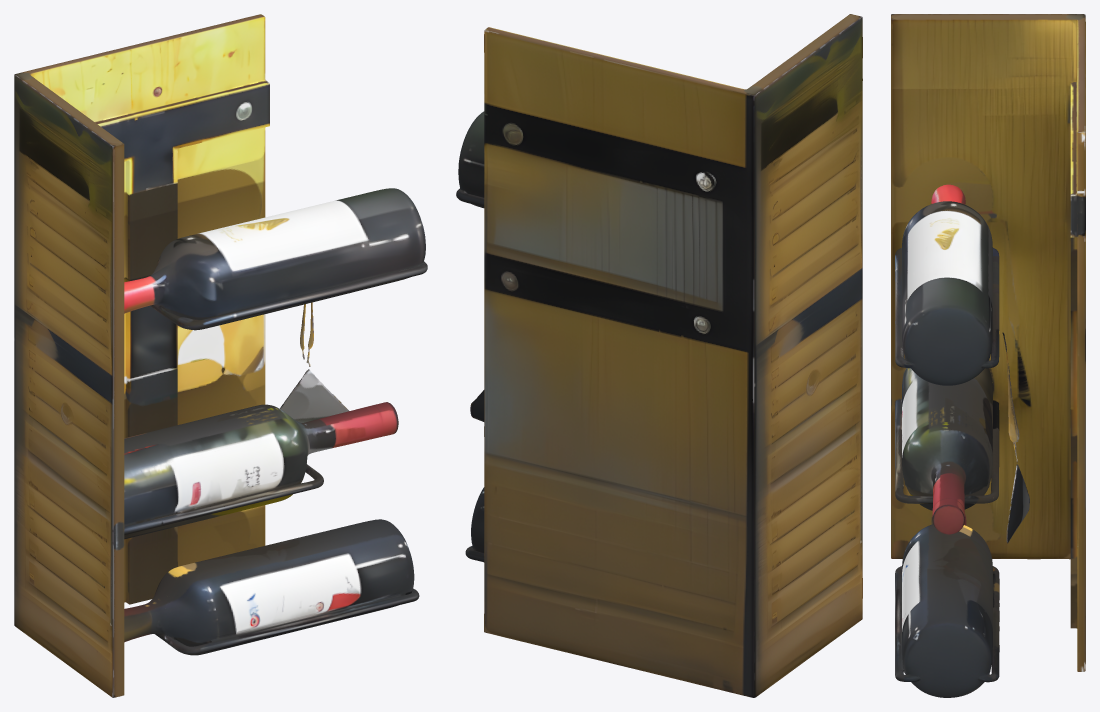
The model's file is bodega-milan.glb.
3 renders of one model, left to right at view 1: azimuth 30°, elevation 25°; view 2: azimuth 150°, elevation 25°; view 3: azimuth 270°, elevation 25°, orthographic. The views are drawn at different scales.
Parts seen in each view (by area): view 1: model; view 2: model; view 3: model.
Boxes of the visible parts, left/top/right/bottom form: model: left=14, top=14, right=427, bottom=697; model: left=456, top=14, right=862, bottom=697; model: left=891, top=14, right=1085, bottom=697.
Size of the model in its own units: 1.17 by 1.9 by 0.6216.
1 material, 1 textured.
